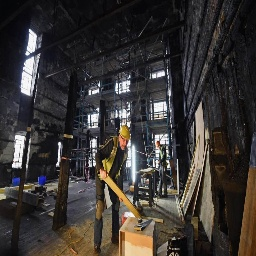helmet: (117, 125, 133, 141)
person: (92, 121, 131, 254)
vest: (103, 136, 127, 194)
